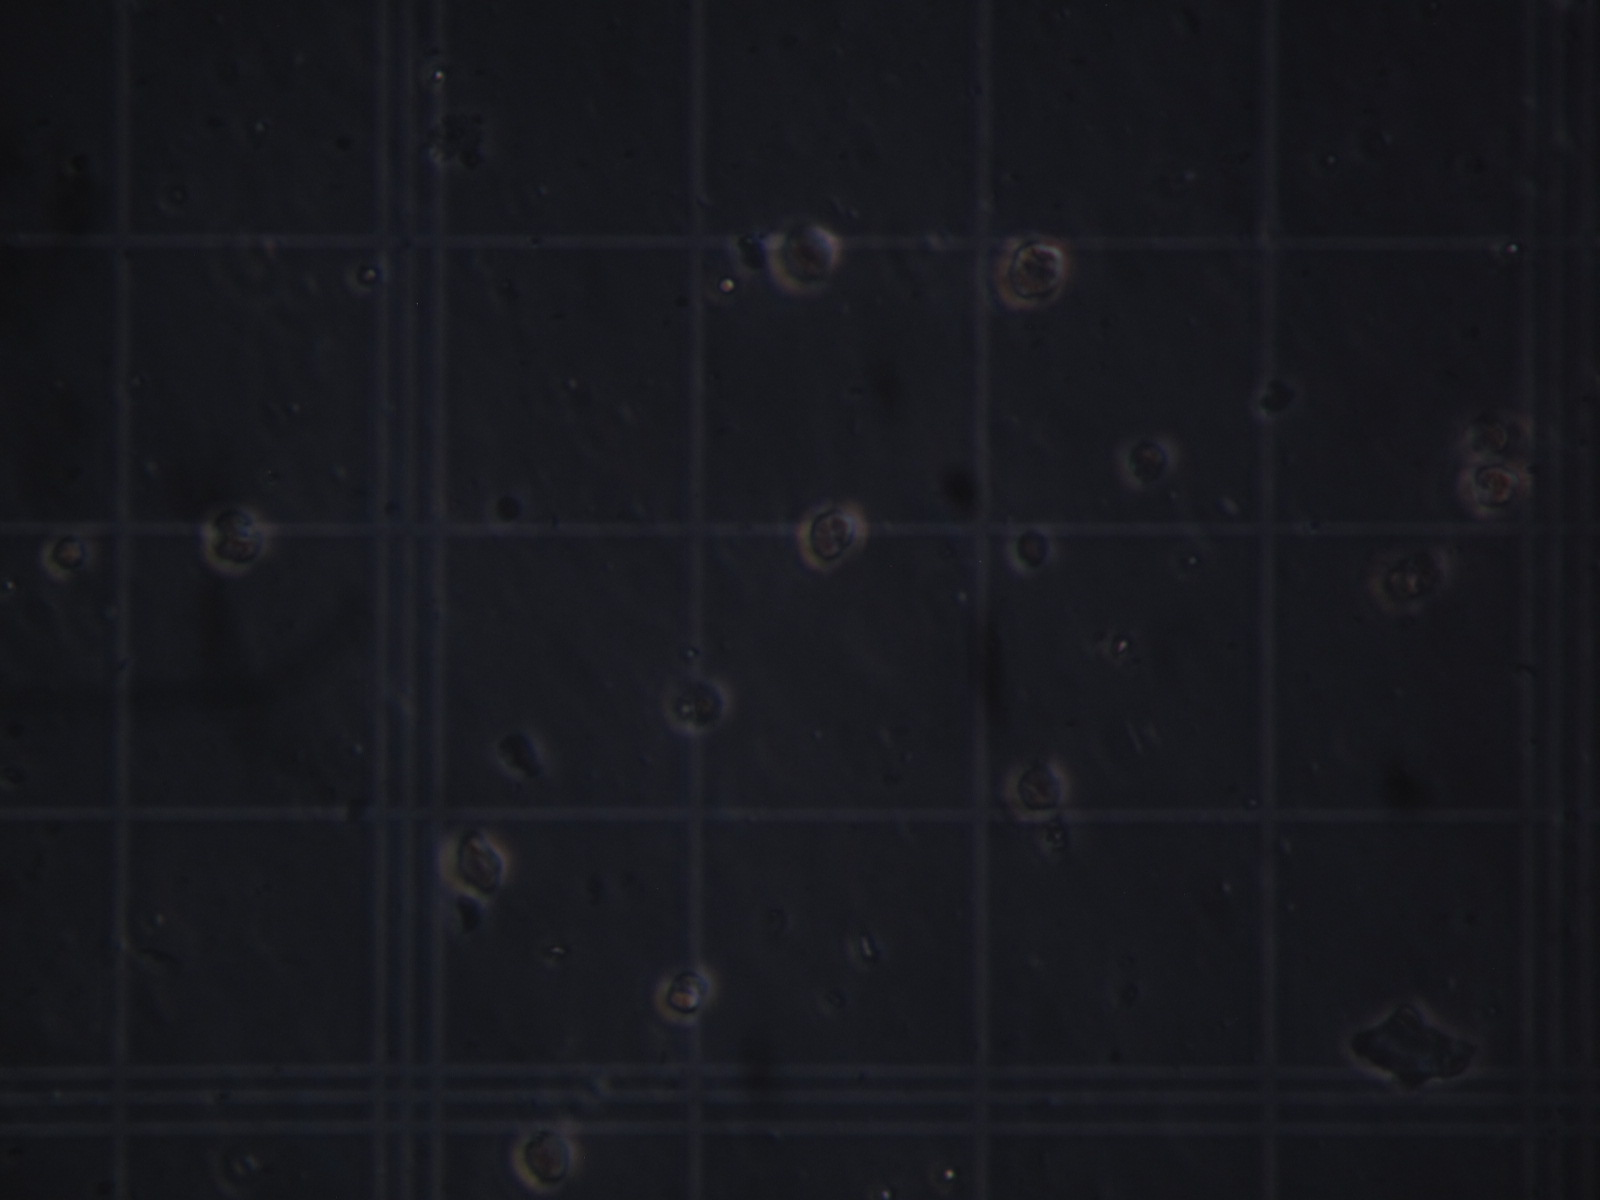hemo: (994, 236, 1072, 311), (767, 224, 847, 296), (796, 499, 869, 572), (1461, 450, 1534, 521), (443, 826, 510, 903), (202, 499, 270, 574), (1004, 755, 1073, 826), (514, 1124, 582, 1195), (653, 961, 721, 1029), (666, 672, 736, 739), (1120, 432, 1179, 492), (37, 524, 100, 580), (1010, 522, 1060, 577)
